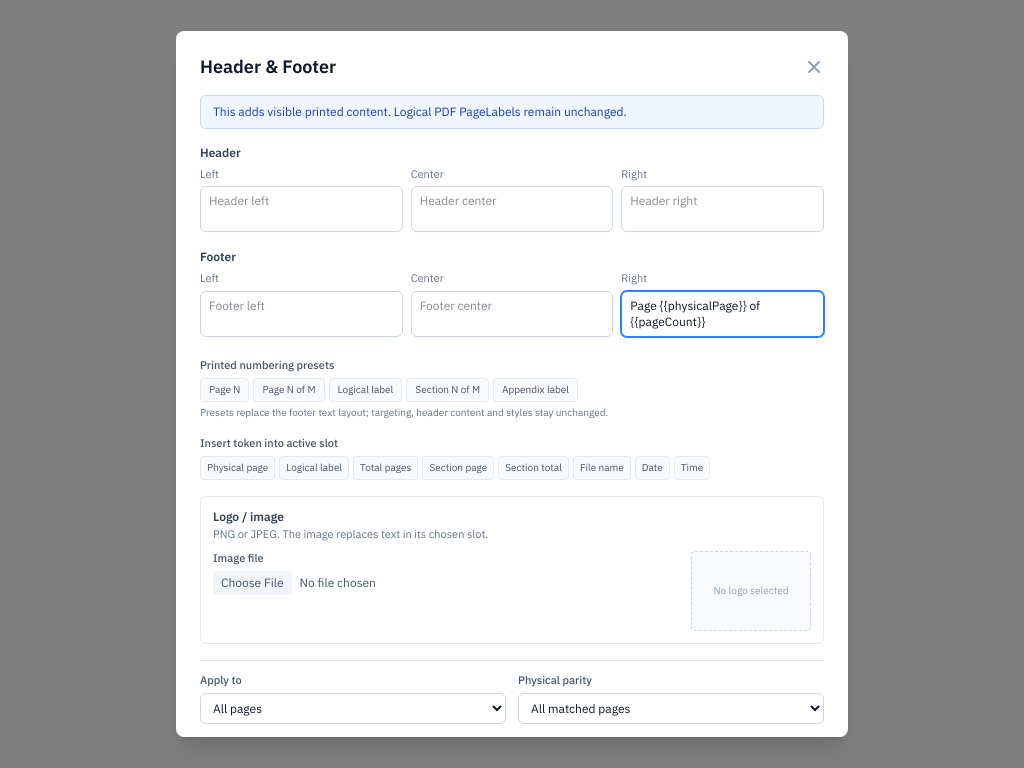
Test case: HeaderFooterDialog › fails closed and disables apply when all six slots are empty
Clear the text box named "Footer right" at (723, 314), box [621,291,824,337]
(page scrolled)
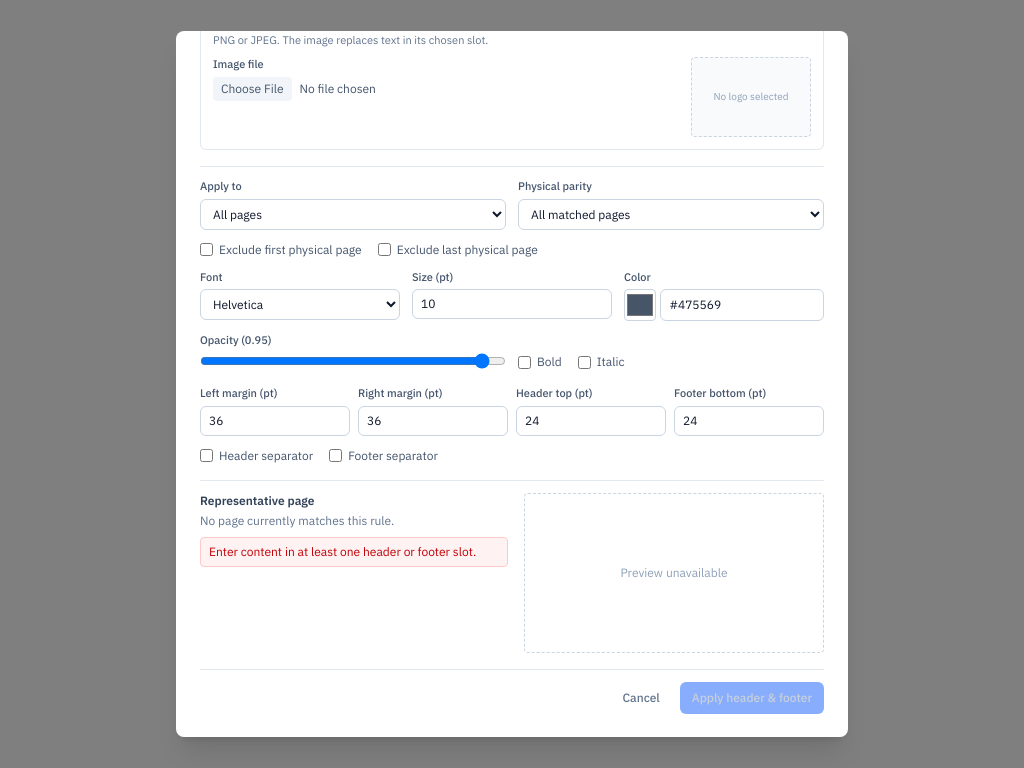
Now the message shows "at least one header or footer slot", box [209,544,476,559]
Now the button "Apply header & footer" is disabled, box [680,682,824,714]
